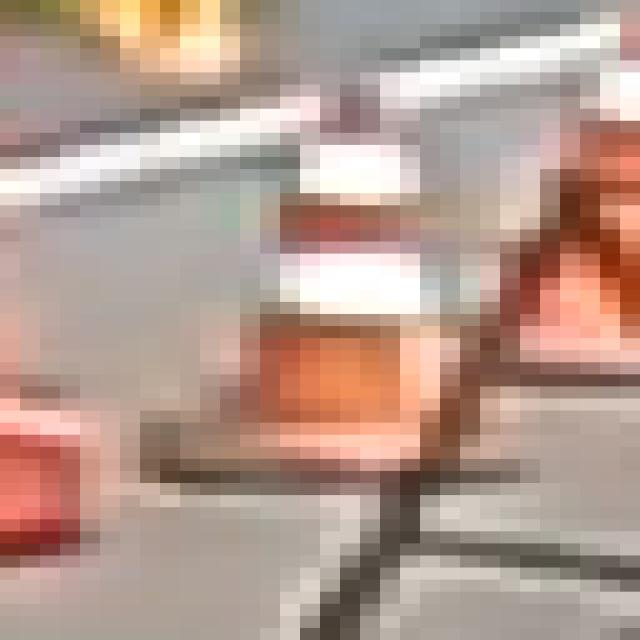small_cone: (236, 113, 430, 474)
